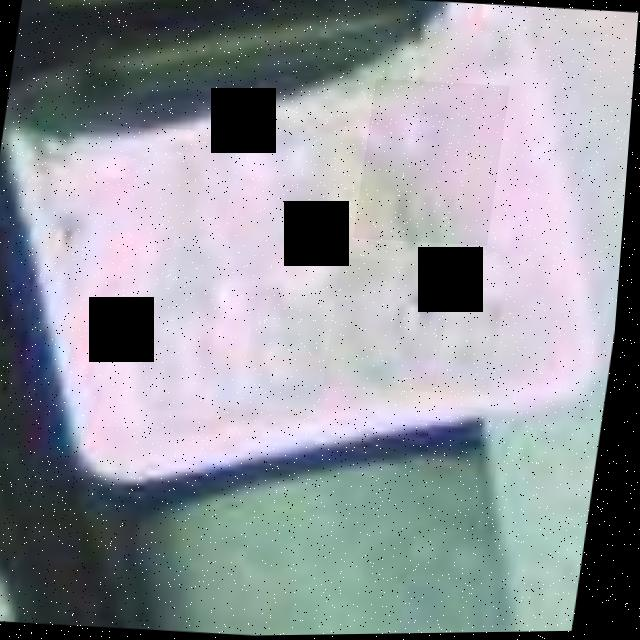0: (103, 272, 262, 436), (209, 254, 363, 417), (328, 257, 458, 394)
B: (222, 126, 385, 278)
Z: (356, 77, 512, 248)
